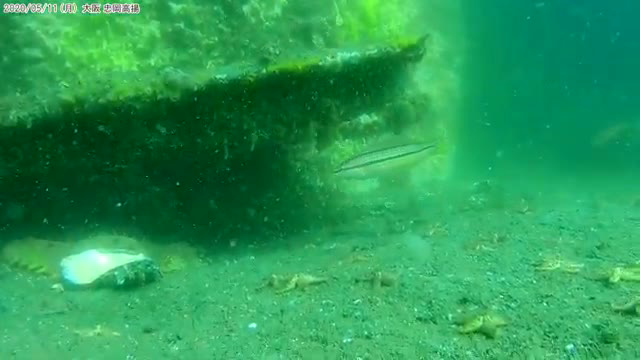bera: (325, 133, 455, 174)
